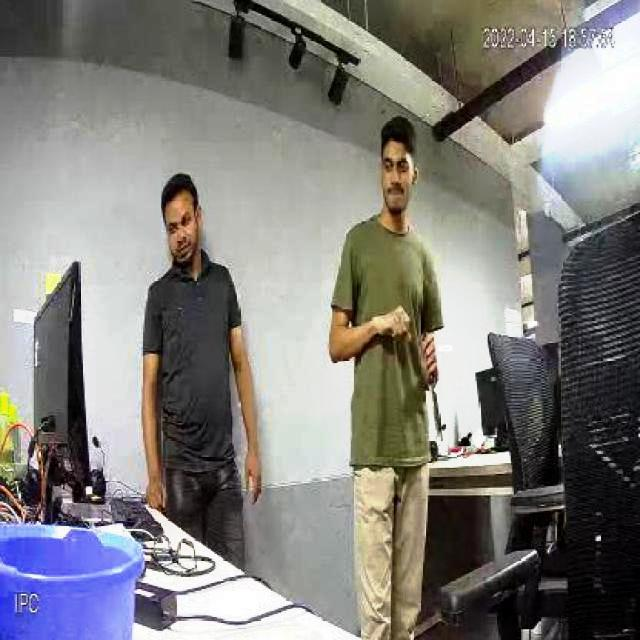Knife: (413, 334, 456, 452)
